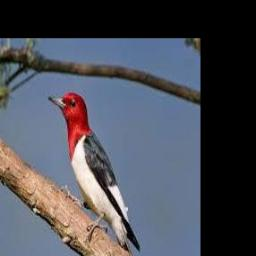Woodpecker: (48, 92, 141, 256)
